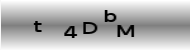4: (62, 25, 77, 38)
D: (82, 21, 98, 35)
M: (115, 24, 134, 37)
b: (103, 9, 116, 22)
t: (32, 20, 44, 32)
